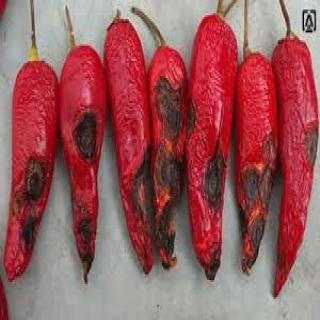Cabai Merah: (3, 27, 59, 284), (187, 14, 239, 282), (271, 33, 320, 300), (104, 18, 154, 274), (58, 44, 108, 281), (236, 54, 280, 276), (148, 44, 189, 271)
